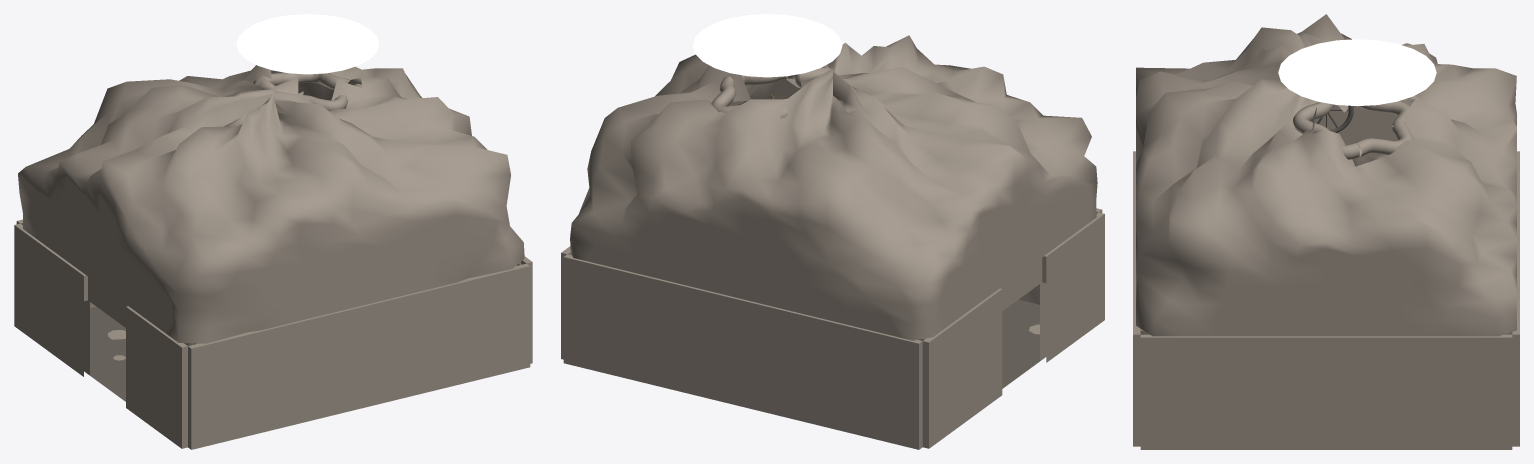
Rendered from environment.glb.
The picture shows the model from 3 angles, left to right: view 1: azimuth 30°, elevation 25°; view 2: azimuth 150°, elevation 25°; view 3: azimuth 270°, elevation 25°; orthographic projection. The views are drawn at different scales.
Parts seen in each view (by area): view 1: pit-arena authored environment; view 2: pit-arena authored environment; view 3: pit-arena authored environment.
Boxes of the visible parts, x1,y1,x2,y2 form: pit-arena authored environment: (14, 14, 532, 449); pit-arena authored environment: (561, 14, 1104, 449); pit-arena authored environment: (1133, 14, 1519, 449).
Bounding box in the file's own units: 29 × 22 × 25.
